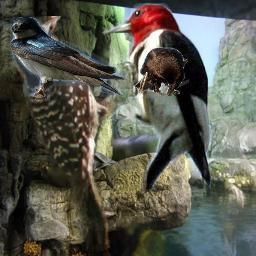Crow: (134, 47, 189, 96)
Swallow: (10, 17, 126, 101)
Woodpecker: (11, 16, 130, 251), (101, 3, 213, 192)
